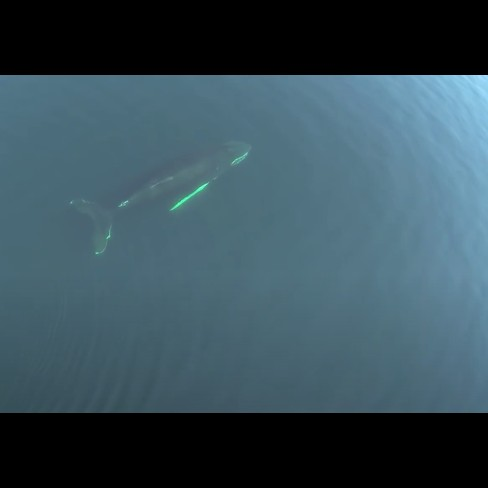hump: (64, 126, 259, 258)
